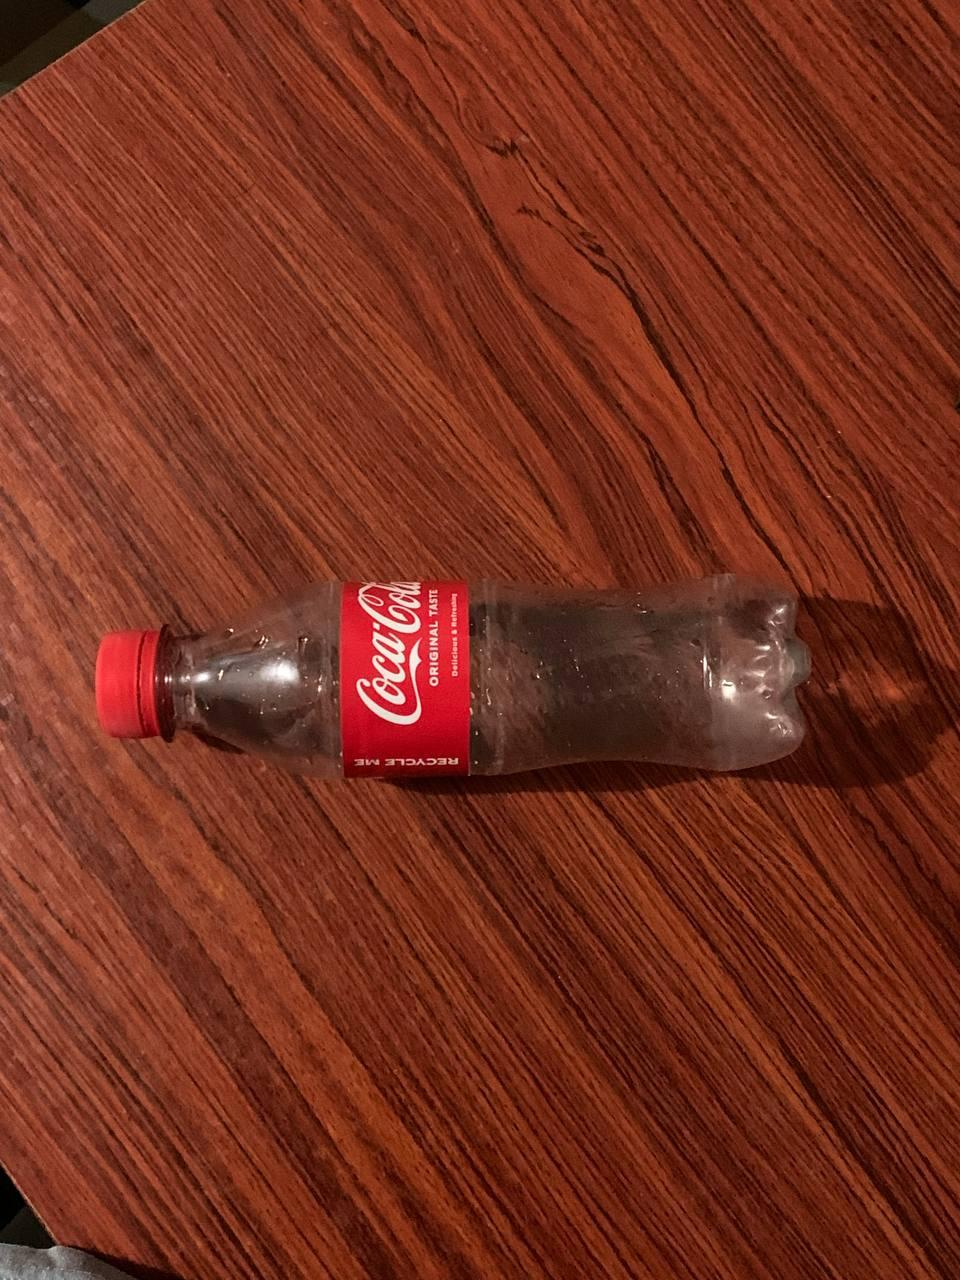plastic: (46, 518, 853, 855)
